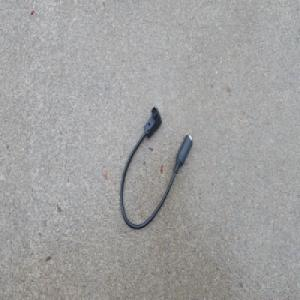Wire: (119, 106, 193, 231)
